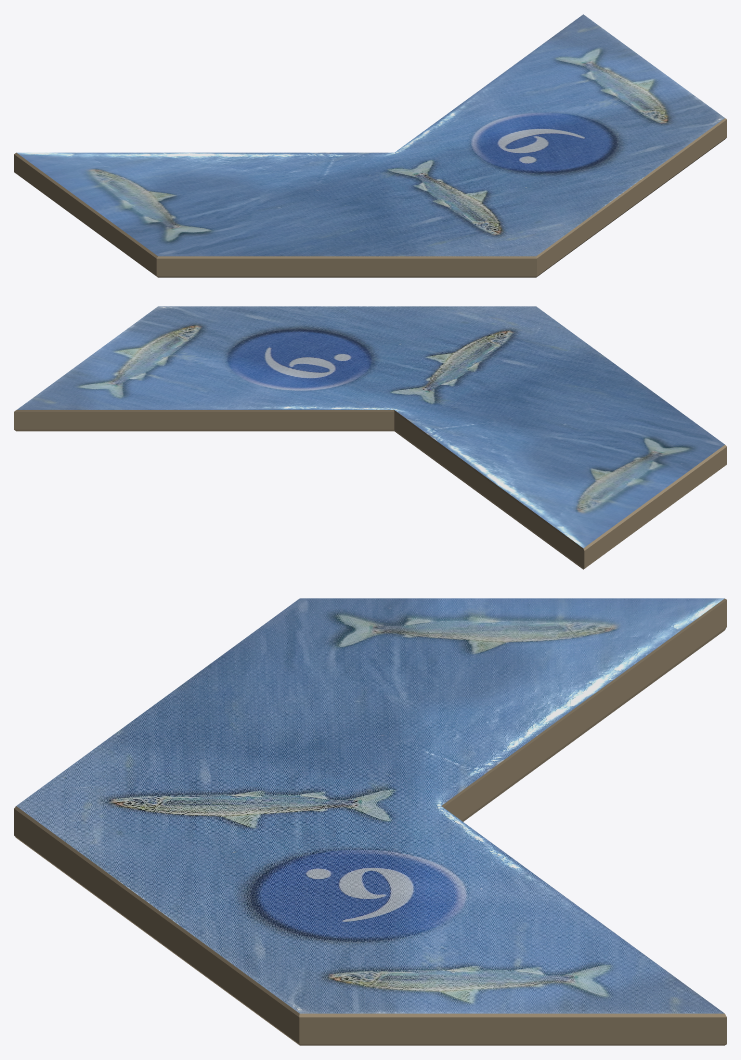
The model's file is ground-6.fbx.
3 views of the same model, one above another, from view 1: azimuth 30°, elevation 25°; view 2: azimuth 150°, elevation 25°; view 3: azimuth 270°, elevation 25° (orthographic). The views are drawn at different scales.
Parts seen in each view (by area): view 1: ground-6; view 2: ground-6; view 3: ground-6.
Boxes of the visible parts, <box> form: ground-6: <box>14,14,726,277</box>; ground-6: <box>14,306,726,569</box>; ground-6: <box>14,598,726,1045</box>.
Bounding box in the file's own units: 4.2 × 0.15 × 3.03.
Materials: 2 (1 with a texture image).
